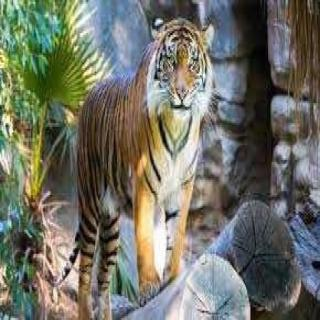Tiger: (50, 15, 218, 318)
